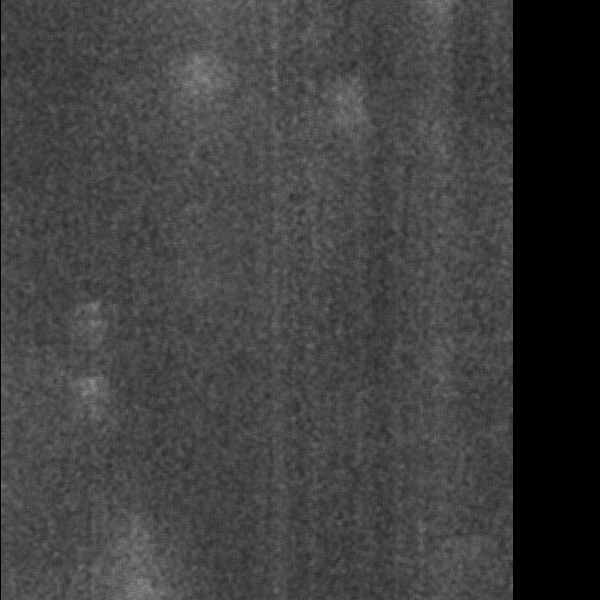spark: (119, 512, 163, 600), (189, 63, 220, 91)
